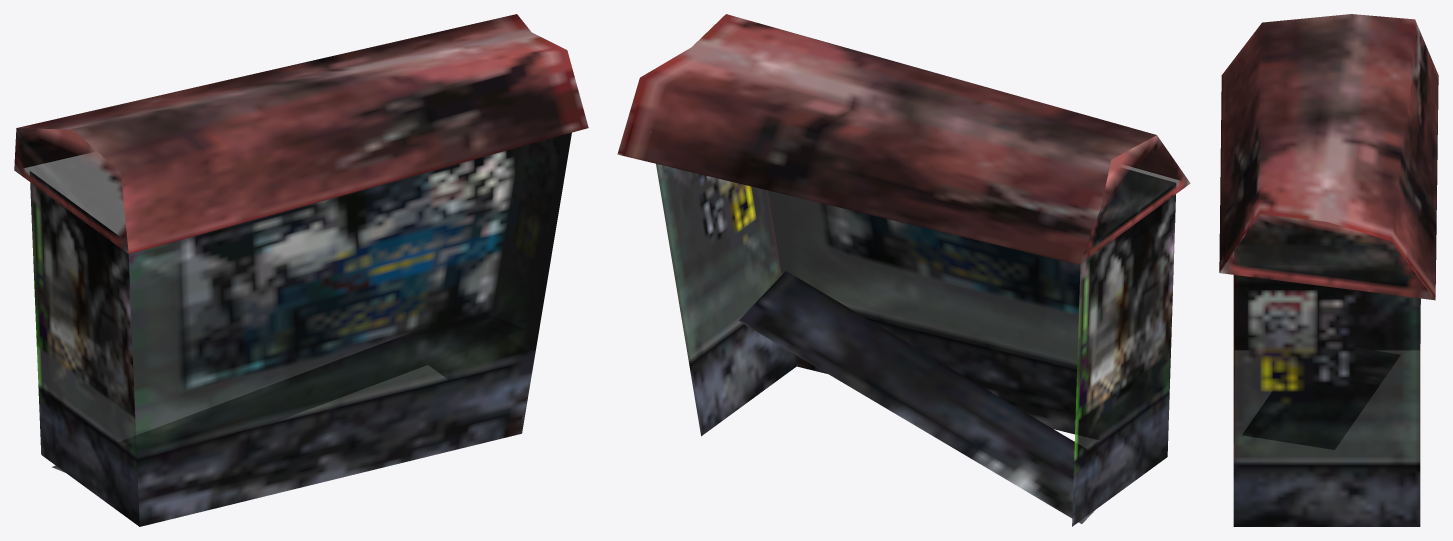
Rendered from Environment - Prop - Bus Stop - Damaged - PEBusStop_d.glb.
3 renders of one model, left to right at view 1: azimuth 30°, elevation 25°; view 2: azimuth 150°, elevation 25°; view 3: azimuth 270°, elevation 25°, orthographic. The views are drawn at different scales.
Visible parts, largest first — view 1: PEBUSSTOP_D; view 2: PEBUSSTOP_D; view 3: PEBUSSTOP_D.
Boxes of the visible parts, bbox=[...] form: PEBUSSTOP_D: bbox=[14, 14, 588, 526]; PEBUSSTOP_D: bbox=[617, 14, 1190, 526]; PEBUSSTOP_D: bbox=[1219, 14, 1438, 526].
Size of the model in its own units: 24.57 by 17.49 by 10.08.
Materials: 1 (1 with a texture image).
